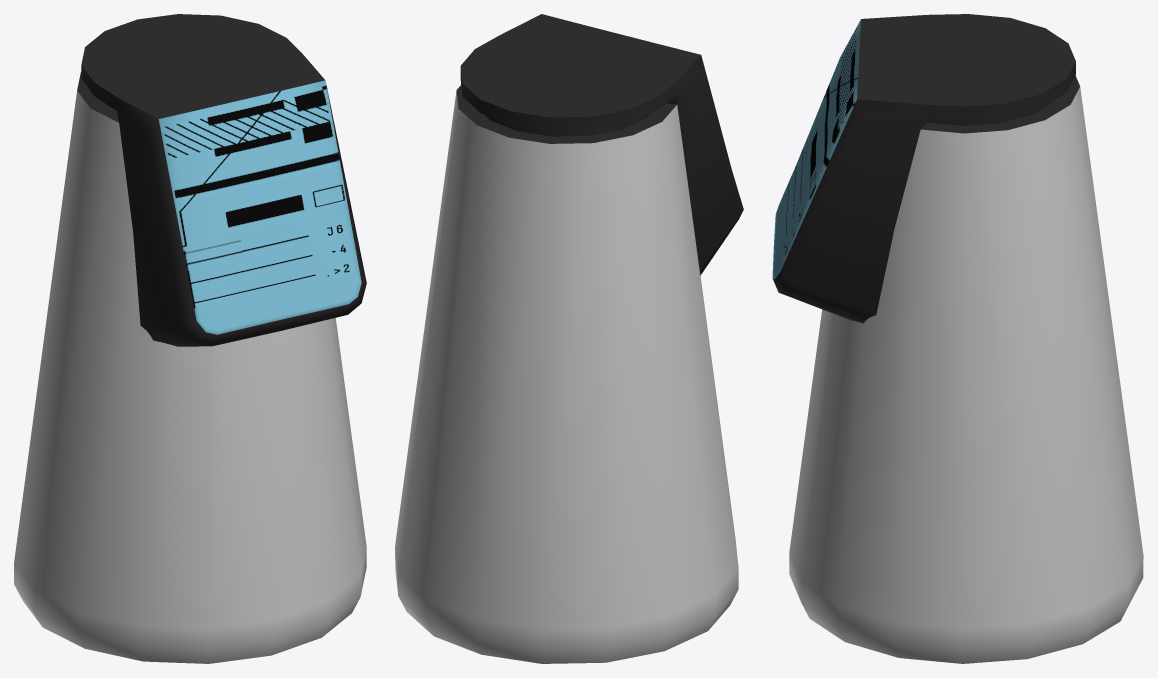
File: Robot.fbx
The picture shows the model from 3 angles, left to right: view 1: azimuth 30°, elevation 25°; view 2: azimuth 150°, elevation 25°; view 3: azimuth 270°, elevation 25°; orthographic projection. The views are drawn at different scales.
Parts seen in each view (by area): view 1: School_Printer_Stage_3; view 2: School_Printer_Stage_3; view 3: School_Printer_Stage_3.
Part boxes in pixels (x1=…): School_Printer_Stage_3: x1=14, y1=14, x2=366, y2=663; School_Printer_Stage_3: x1=395, y1=14, x2=743, y2=663; School_Printer_Stage_3: x1=772, y1=14, x2=1143, y2=663.
Size of the model in its own units: 2.43 by 4.04 by 2.55.
